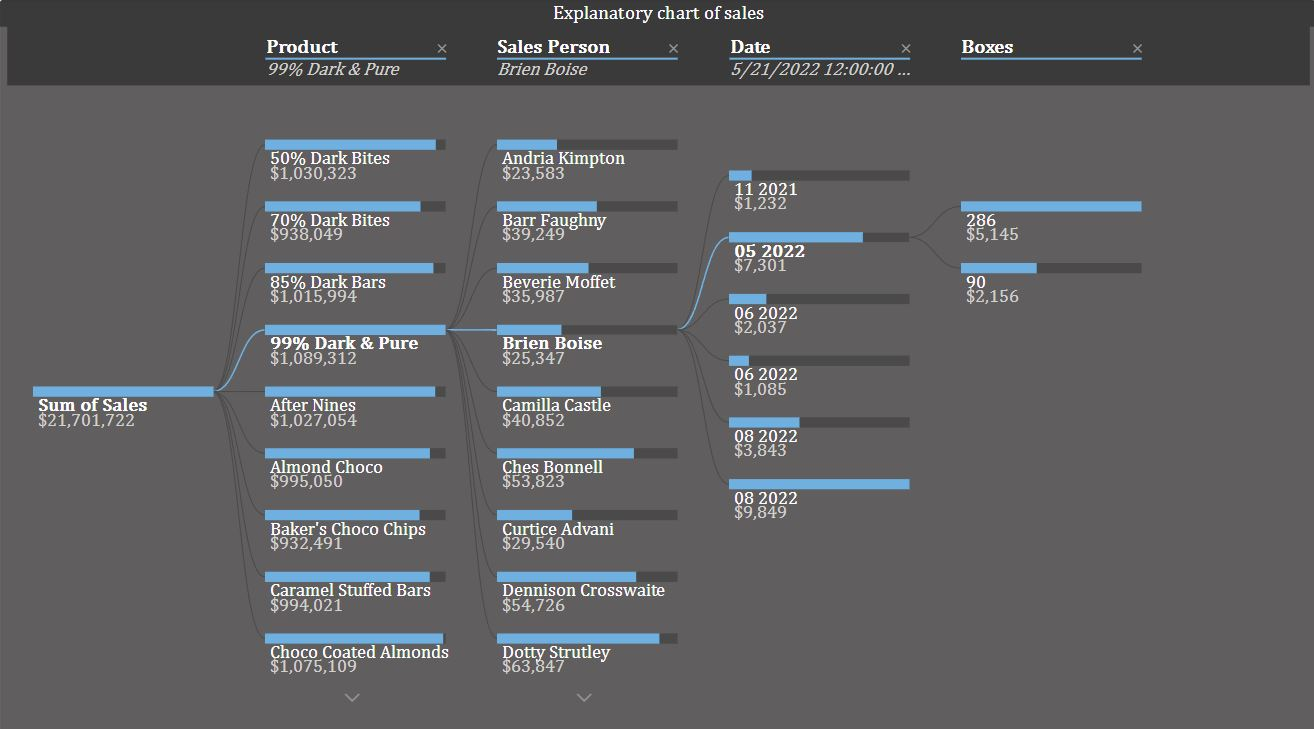

What the dashboard file says about the page in this screenshot:
{"tool":"powerbi","page":{"name":"Explanatory chart","canvas":[1280,720],"ordinal":3},"visuals":[{"type":"decompositionTreeVisual","title":"Explanatory chart of sales","fields":{"Analyze":["Sum(actuals.Sales)"],"ExplainBy":["actuals.Product","actuals.Sales Person","actuals.Date","actuals.Boxes"]},"box":[0,0,1280,720.2],"z":0}]}

Visuals, with their boxes in screenshot pixels (x1, y1, x2, y2), scaled from the page's 1280x720 canvas onto the 1314x729 screenshot:
"Explanatory chart of sales" decompositionTreeVisual: {"left": 0, "top": 0, "right": 1313, "bottom": 728}
